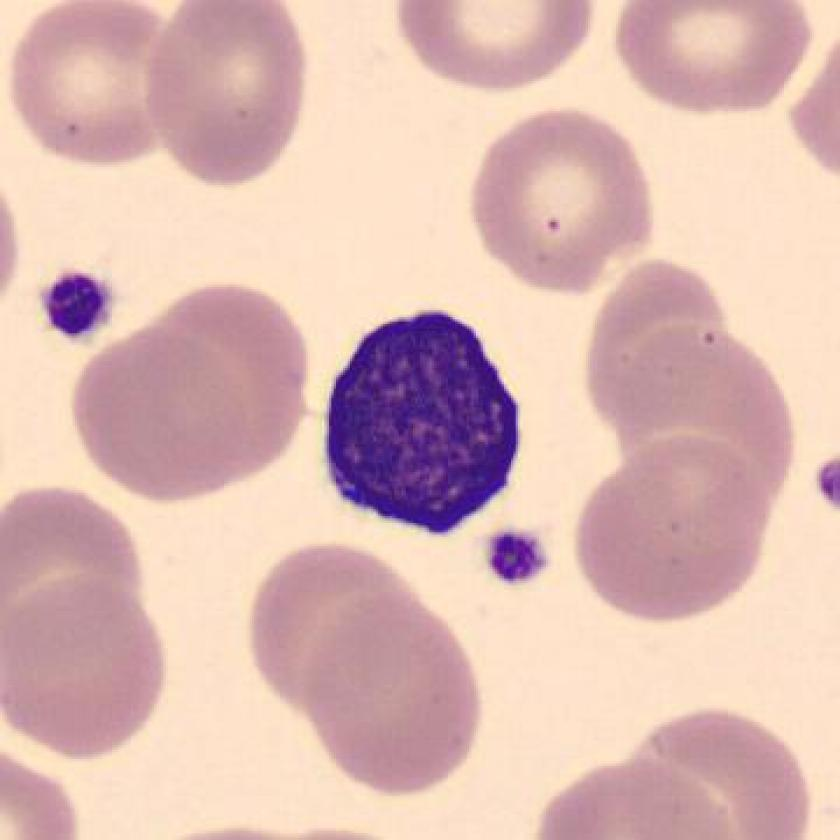lymphocyte: (304, 297, 540, 547)
platelets: (33, 263, 122, 349), (482, 527, 549, 592)
